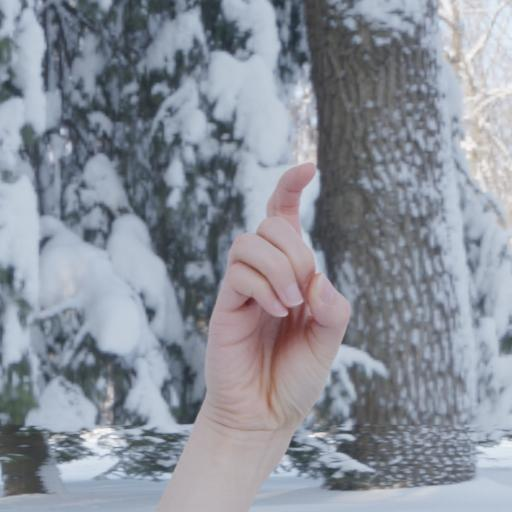X: (169, 147, 351, 451)
